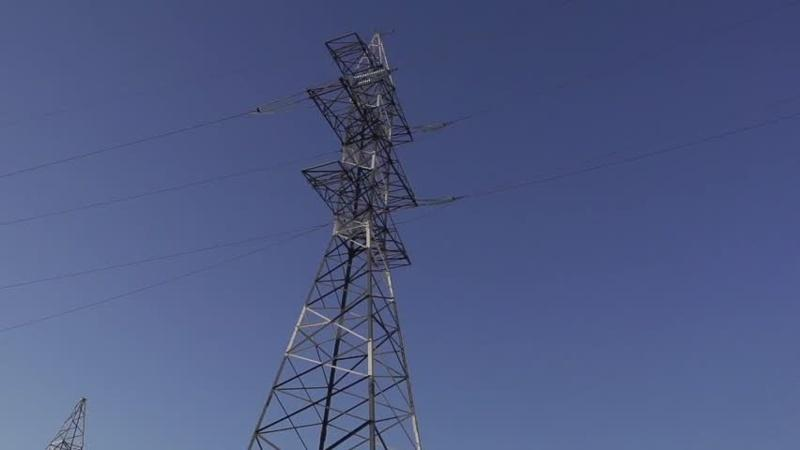power_tower: (240, 18, 448, 444)
